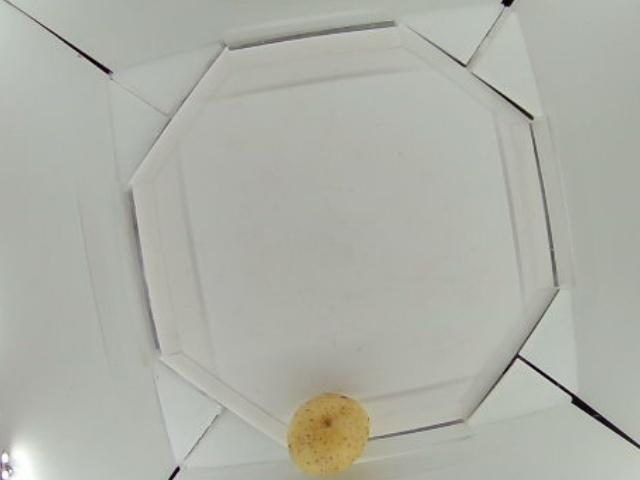Potato: (288, 391, 368, 479)
